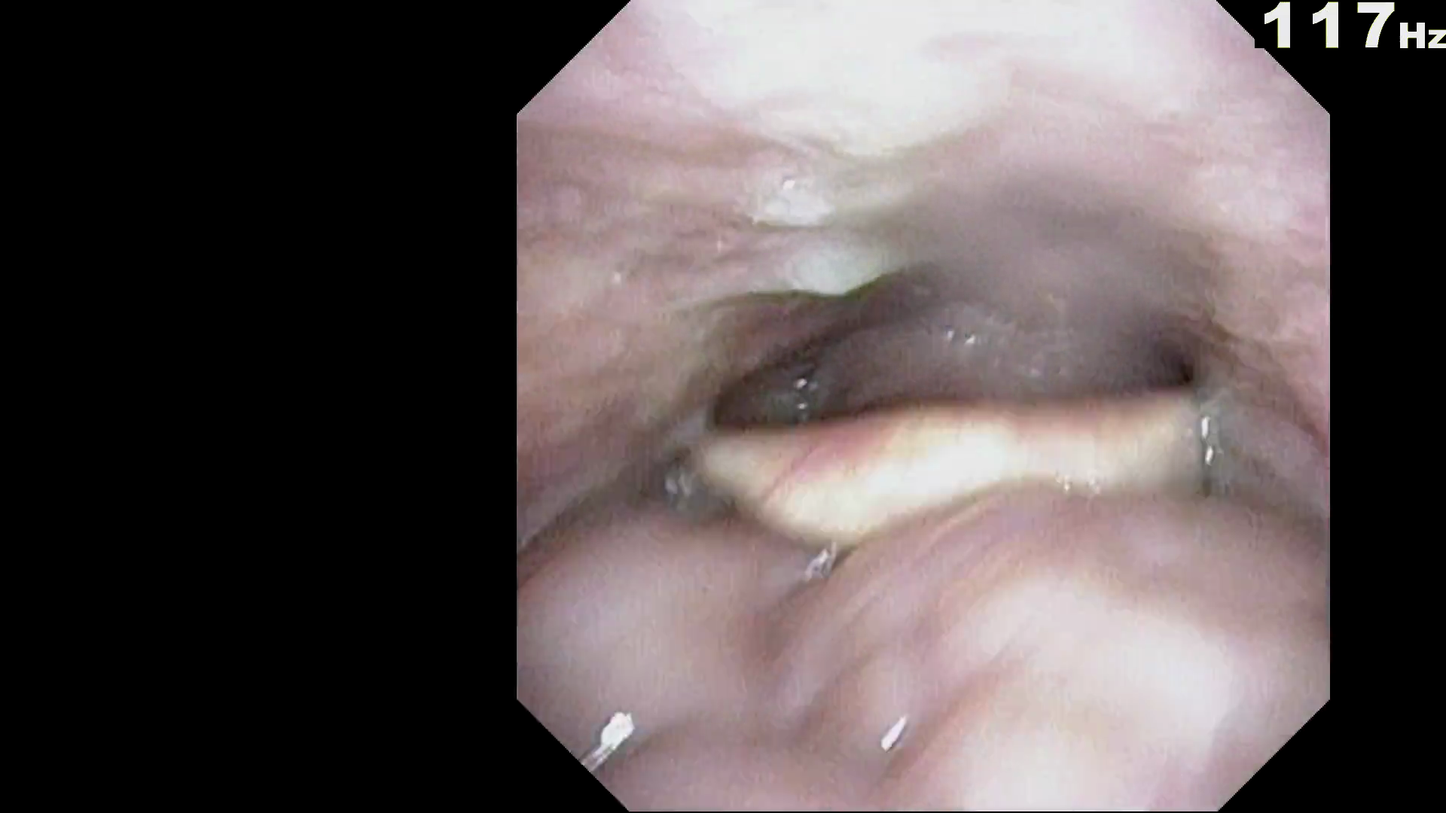epiglottis: (659, 406, 1246, 602)
